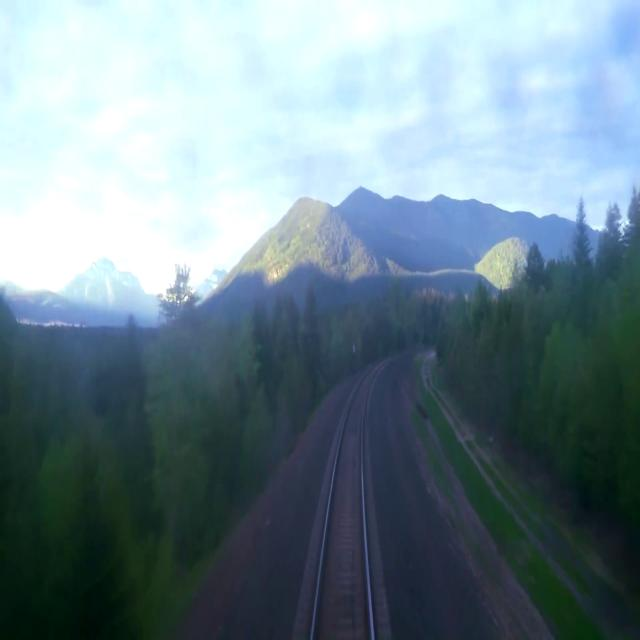rail-track: (315, 368, 375, 639)
